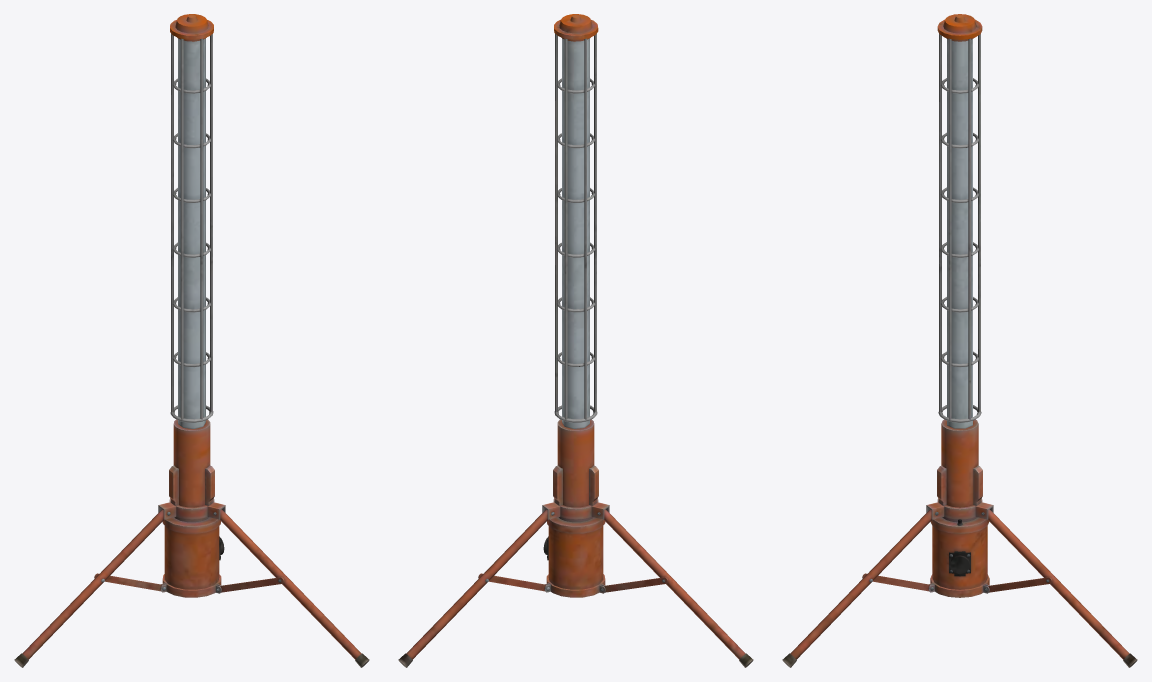
File: SM_LampStandLarge_4f56ef.glb
3 renders of one model, left to right at view 1: azimuth 30°, elevation 25°; view 2: azimuth 150°, elevation 25°; view 3: azimuth 270°, elevation 25°, orthographic.
Size of the model in its own units: 1.04 by 2.26 by 1.19.
1 material, 1 textured.
